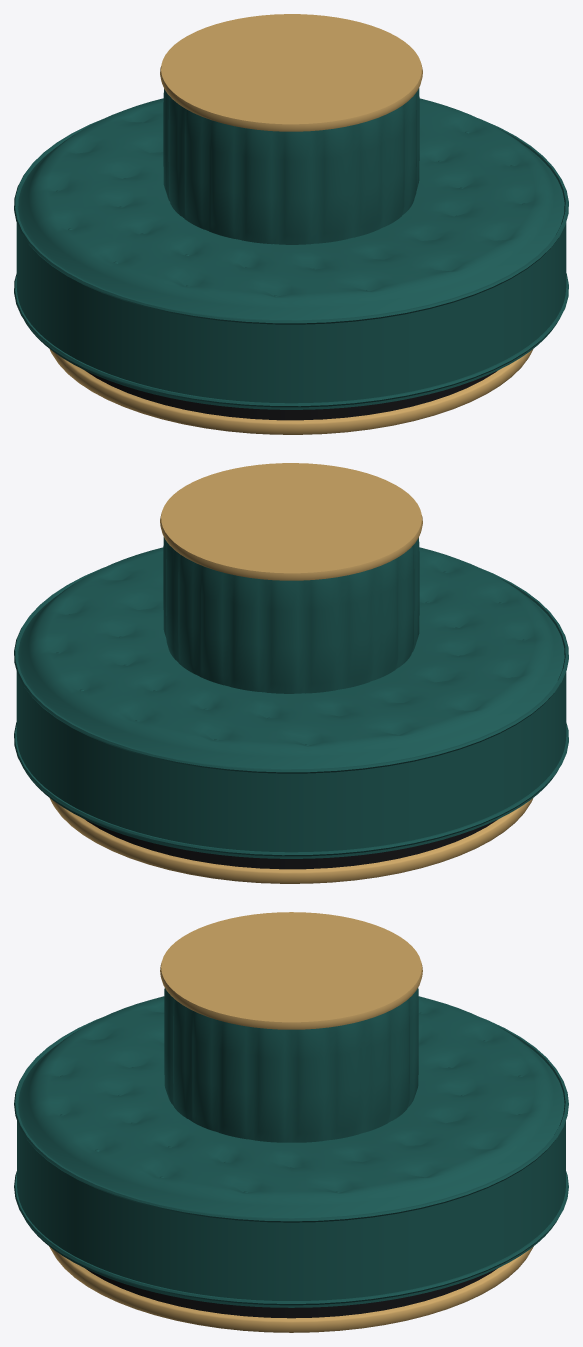
Rendered from borne_round.glb.
3 renders of one model, top to bottom at view 1: azimuth 30°, elevation 25°; view 2: azimuth 150°, elevation 25°; view 3: azimuth 270°, elevation 25°, orthographic.
Visible parts, largest first — view 1: Seat_LOD0, Drum_LOD0, Lid_LOD0, Kick_LOD0, Welt_LOD0, Plinth_LOD0, Welt_LOD0.001; view 2: Seat_LOD0, Drum_LOD0, Lid_LOD0, Kick_LOD0, Welt_LOD0, Plinth_LOD0, Welt_LOD0.001; view 3: Seat_LOD0, Drum_LOD0, Lid_LOD0, Kick_LOD0, Welt_LOD0, Plinth_LOD0, Welt_LOD0.001.
Part boxes in pixels (x1,y1,x2,y2): Seat_LOD0: (16,98,566,409); Drum_LOD0: (163,88,419,244); Lid_LOD0: (160,14,422,131); Kick_LOD0: (49,349,533,434); Welt_LOD0: (14,118,568,324); Plinth_LOD0: (86,371,496,420); Welt_LOD0.001: (14,273,568,407); Seat_LOD0: (16,547,566,858); Drum_LOD0: (163,537,419,693); Lid_LOD0: (160,463,422,580); Kick_LOD0: (49,798,533,883); Welt_LOD0: (14,567,568,773); Plinth_LOD0: (86,820,496,869); Welt_LOD0.001: (14,722,568,856); Seat_LOD0: (17,996,565,1307); Drum_LOD0: (164,988,418,1142); Lid_LOD0: (160,912,422,1029); Kick_LOD0: (49,1246,533,1332); Welt_LOD0: (14,1018,568,1222); Plinth_LOD0: (85,1268,497,1318); Welt_LOD0.001: (14,1171,568,1305).
Size of the model in its own units: 1.62 by 0.842 by 1.62.
